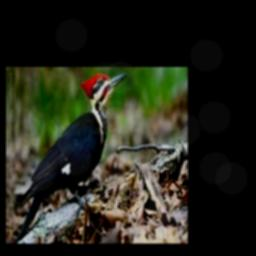Woodpecker: (13, 73, 127, 244)
